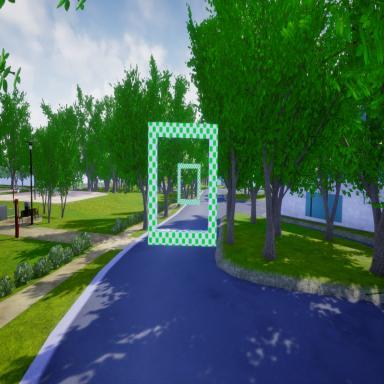gate: (146, 120, 219, 252), (176, 158, 202, 207)
